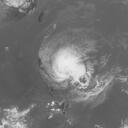cyclone: (49, 47, 91, 85)
